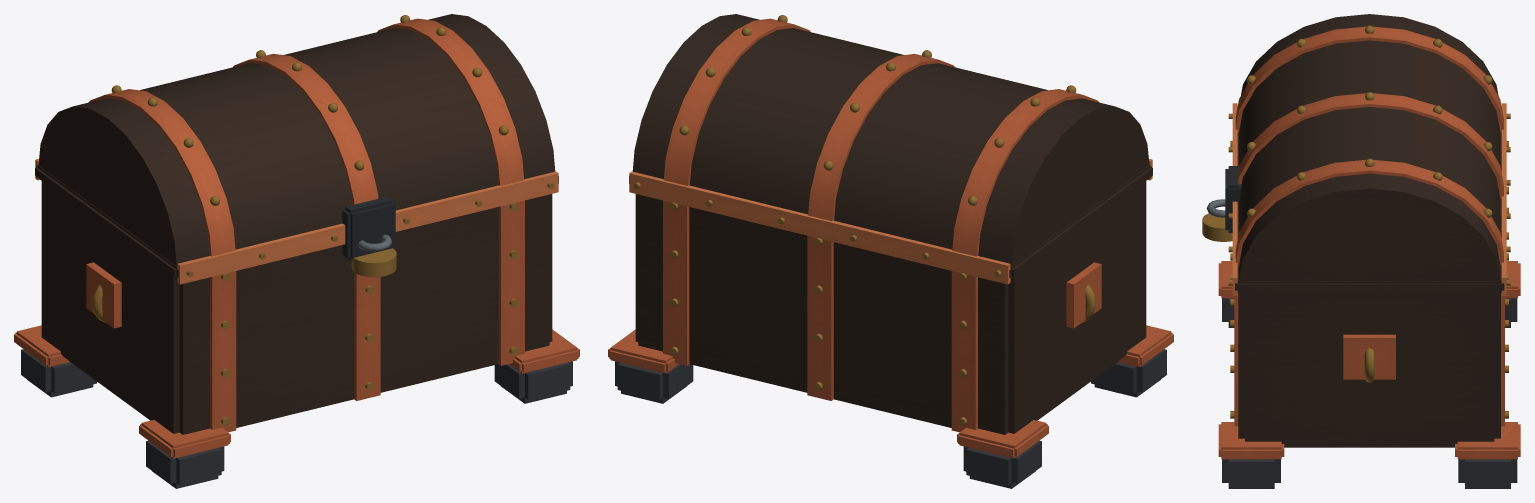
File: chest_ore_strongbox.glb
3 views of the same model, side by side, from view 1: azimuth 30°, elevation 25°; view 2: azimuth 150°, elevation 25°; view 3: azimuth 270°, elevation 25° (orthographic). The views are drawn at different scales.
Parts seen in each view (by area): view 1: chest_ore_strongbox; view 2: chest_ore_strongbox; view 3: chest_ore_strongbox.
Part boxes in pixels (x1,y1,x2,y2): chest_ore_strongbox: [14, 14, 579, 488]; chest_ore_strongbox: [608, 14, 1173, 488]; chest_ore_strongbox: [1202, 14, 1520, 488].
Bounding box in the file's own units: 1.36 × 1.03 × 0.97.
1 material, 1 textured.
